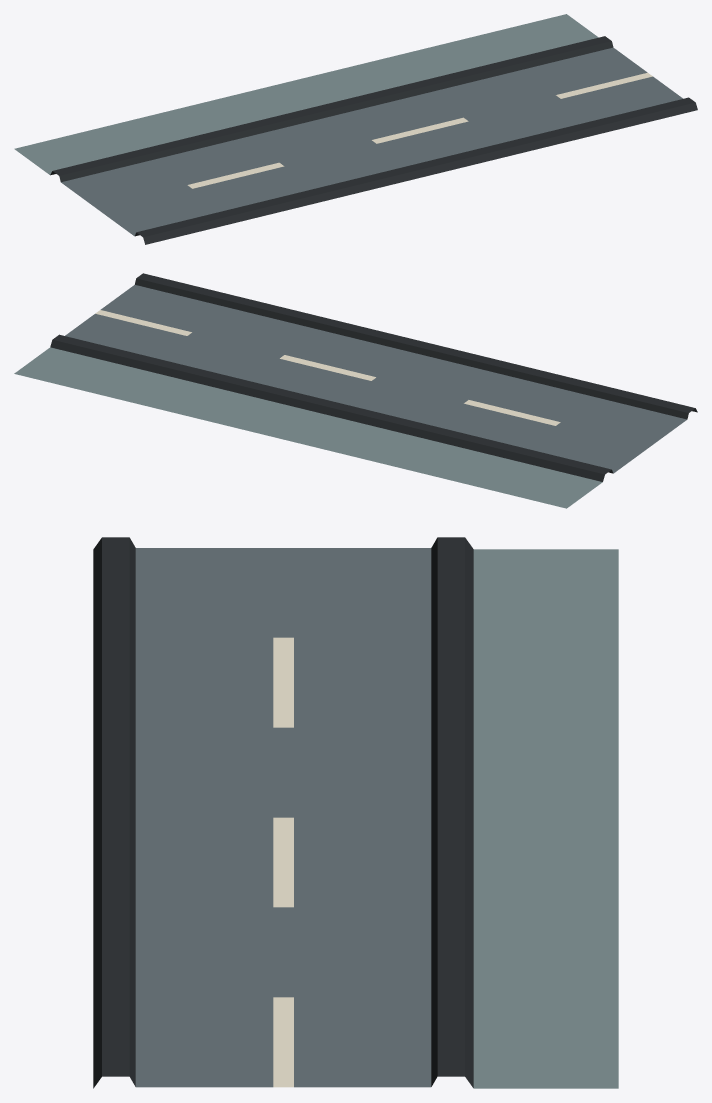
The model's file is Tentacule_Route_001.FBX.
3 views of the same model, one above another, from view 1: azimuth 30°, elevation 25°; view 2: azimuth 150°, elevation 25°; view 3: azimuth 270°, elevation 25° (orthographic). The views are drawn at different scales.
Visible parts, largest first — view 1: Tentacule_Terrain_001; view 2: Tentacule_Terrain_001; view 3: Tentacule_Terrain_001.
Boxes of the visible parts, bbox=[...] form: Tentacule_Terrain_001: bbox=[14, 14, 697, 244]; Tentacule_Terrain_001: bbox=[14, 273, 697, 508]; Tentacule_Terrain_001: bbox=[93, 537, 618, 1088].
Size of the model in its own units: 248 by 2.59 by 102.
